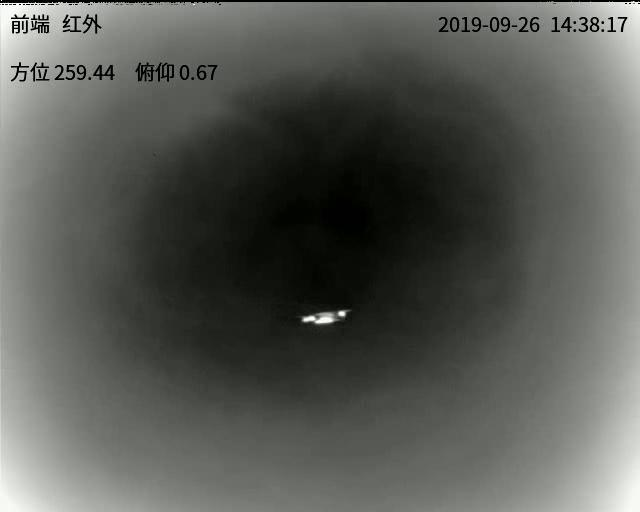DRONE: (299, 307, 350, 326)
